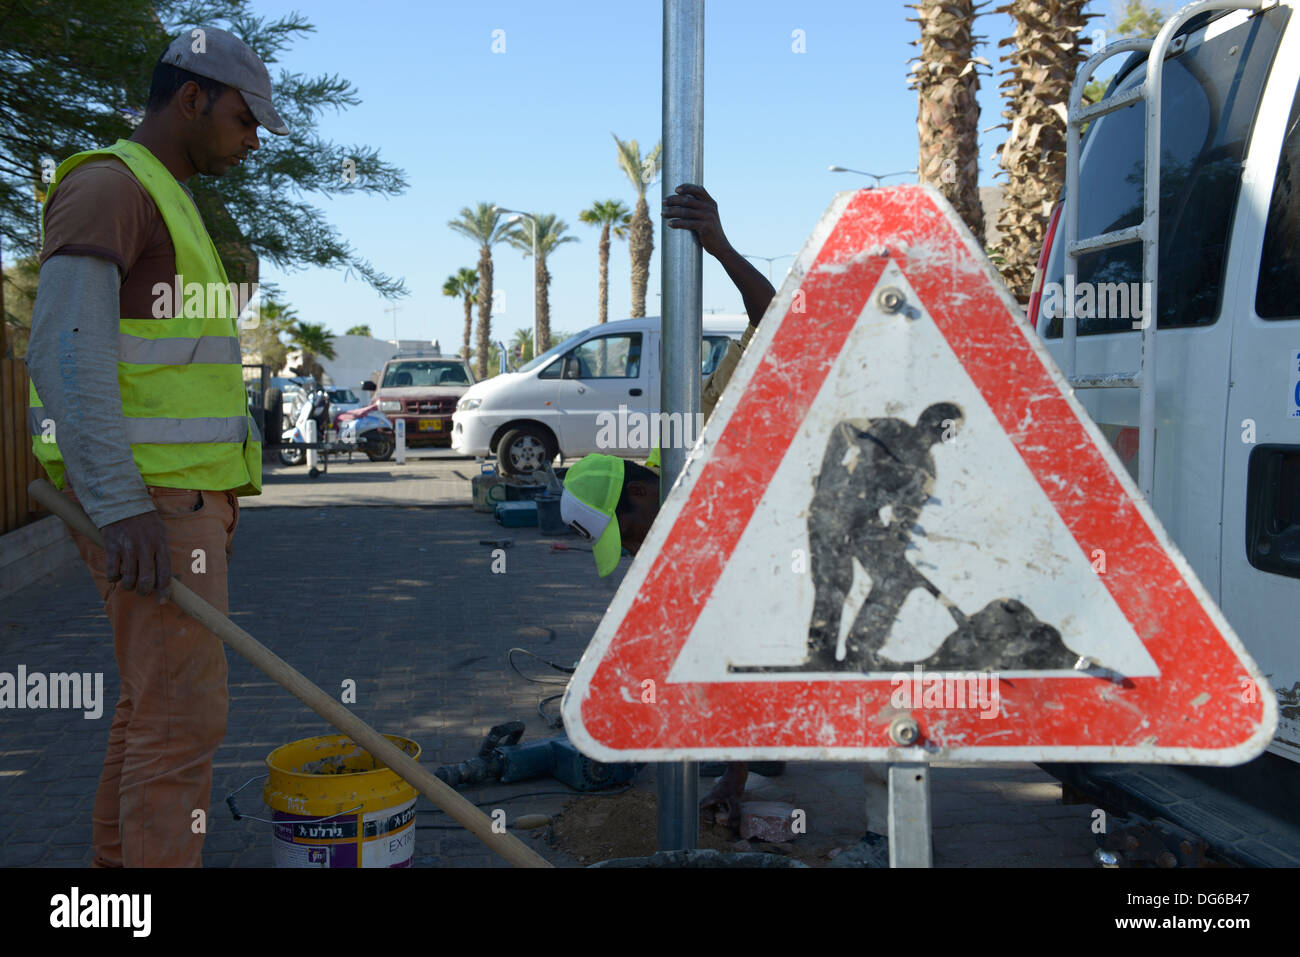bike: (284, 390, 392, 465)
car: (459, 316, 750, 453), (376, 355, 479, 448)
caution: (587, 185, 1257, 763)
